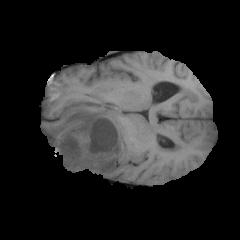glioma: (45, 104, 128, 173)
